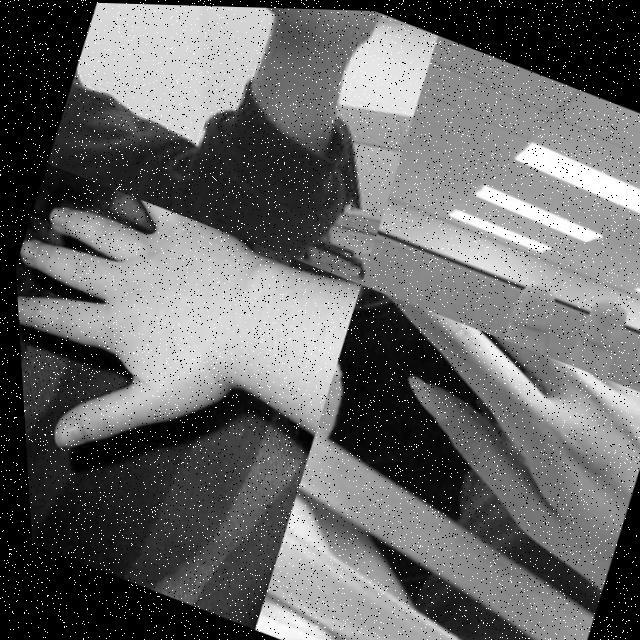no-gloves: (282, 280, 640, 600), (8, 161, 290, 503), (360, 207, 640, 395), (128, 3, 392, 128)
